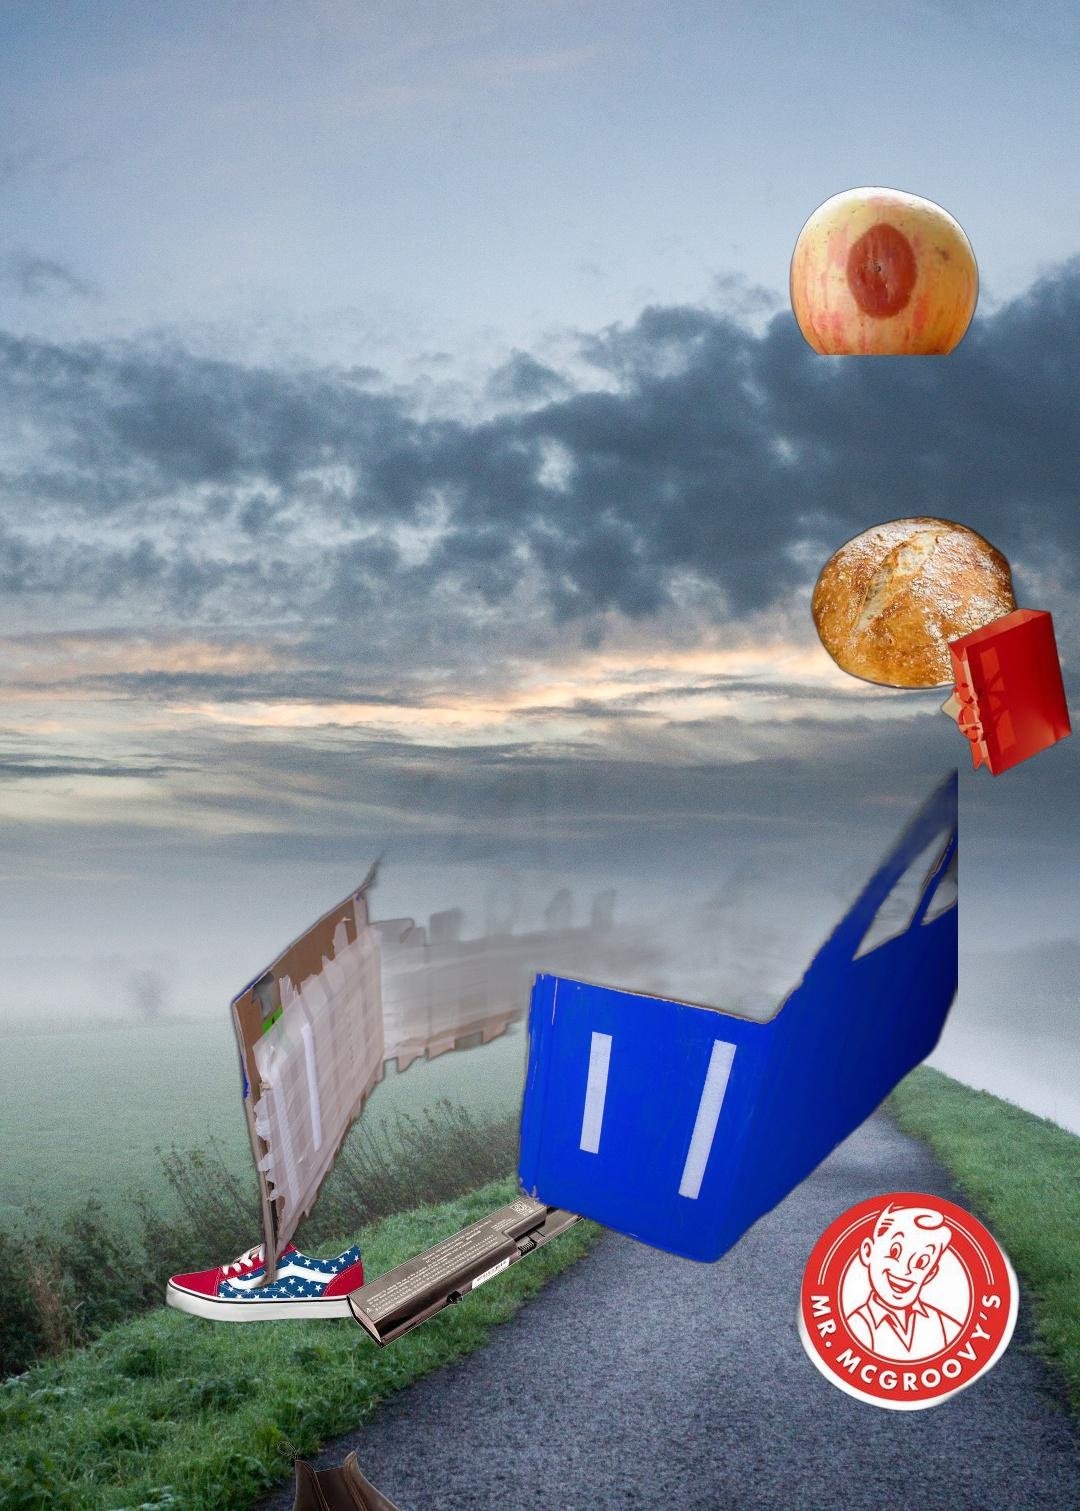battery: (346, 1162, 616, 1349)
biological: (803, 514, 1022, 692), (788, 183, 982, 355)
paper-bag: (939, 605, 1075, 779)
shoes: (162, 1229, 371, 1325), (274, 1437, 496, 1511)
trashbox-cardboard: (223, 767, 958, 1294), (788, 1188, 1022, 1414)
